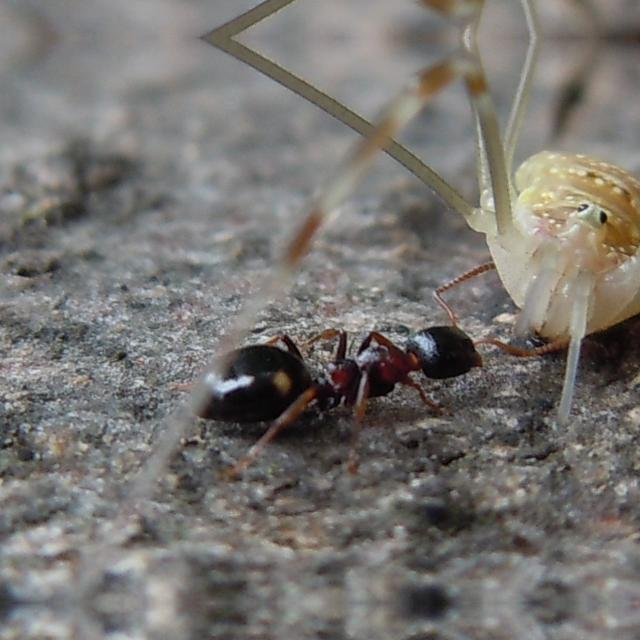Dolichoderus: (136, 300, 498, 450)
